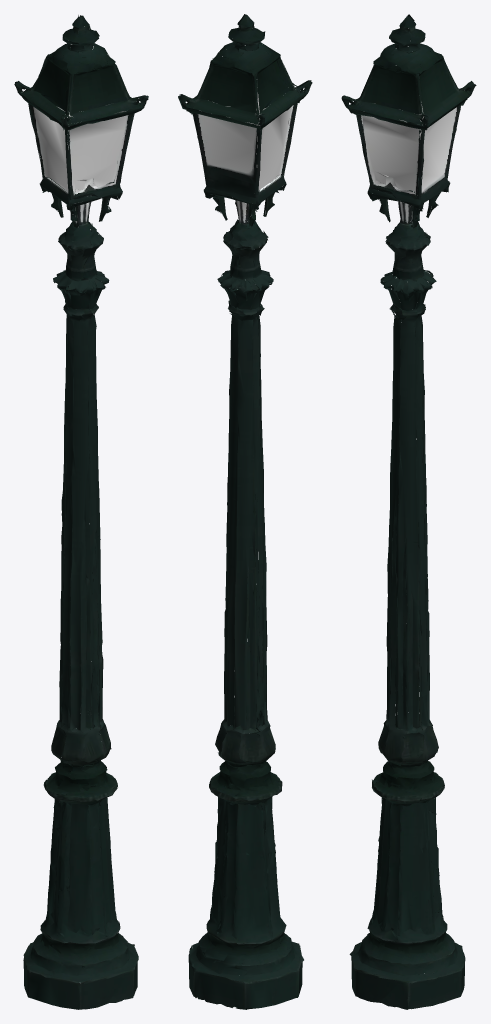
The model's file is lamp.glb.
The picture shows the model from 3 angles, left to right: view 1: azimuth 30°, elevation 25°; view 2: azimuth 150°, elevation 25°; view 3: azimuth 330°, elevation 25°; orthographic projection.
Parts seen in each view (by area): view 1: Mesh_0; view 2: Mesh_0; view 3: Mesh_0.
Boxes of the visible parts, <box> form: Mesh_0: <box>14,15,148,1009</box>; Mesh_0: <box>178,14,312,1009</box>; Mesh_0: <box>341,14,476,1009</box>.
Bounding box in the file's own units: 0.1156 × 1 × 0.1058.
1 material, 1 textured.
